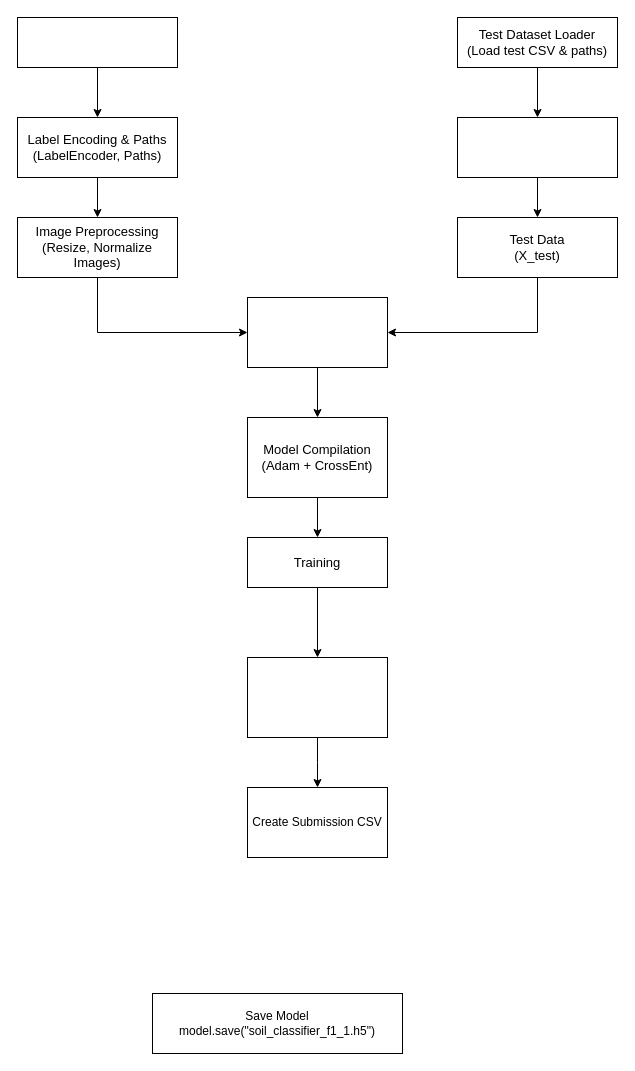
This 635x1071 diagram has some shape labels left out. The centre of each missing label's shape, as x and y in pixels:
CNN Model Architecture: [317,332]
Evaluation & F1 (f1_score, reports): [317,697]
Input Dataset (Images + CSV): [97,42]
Test Image Preprocessing: [537,147]
